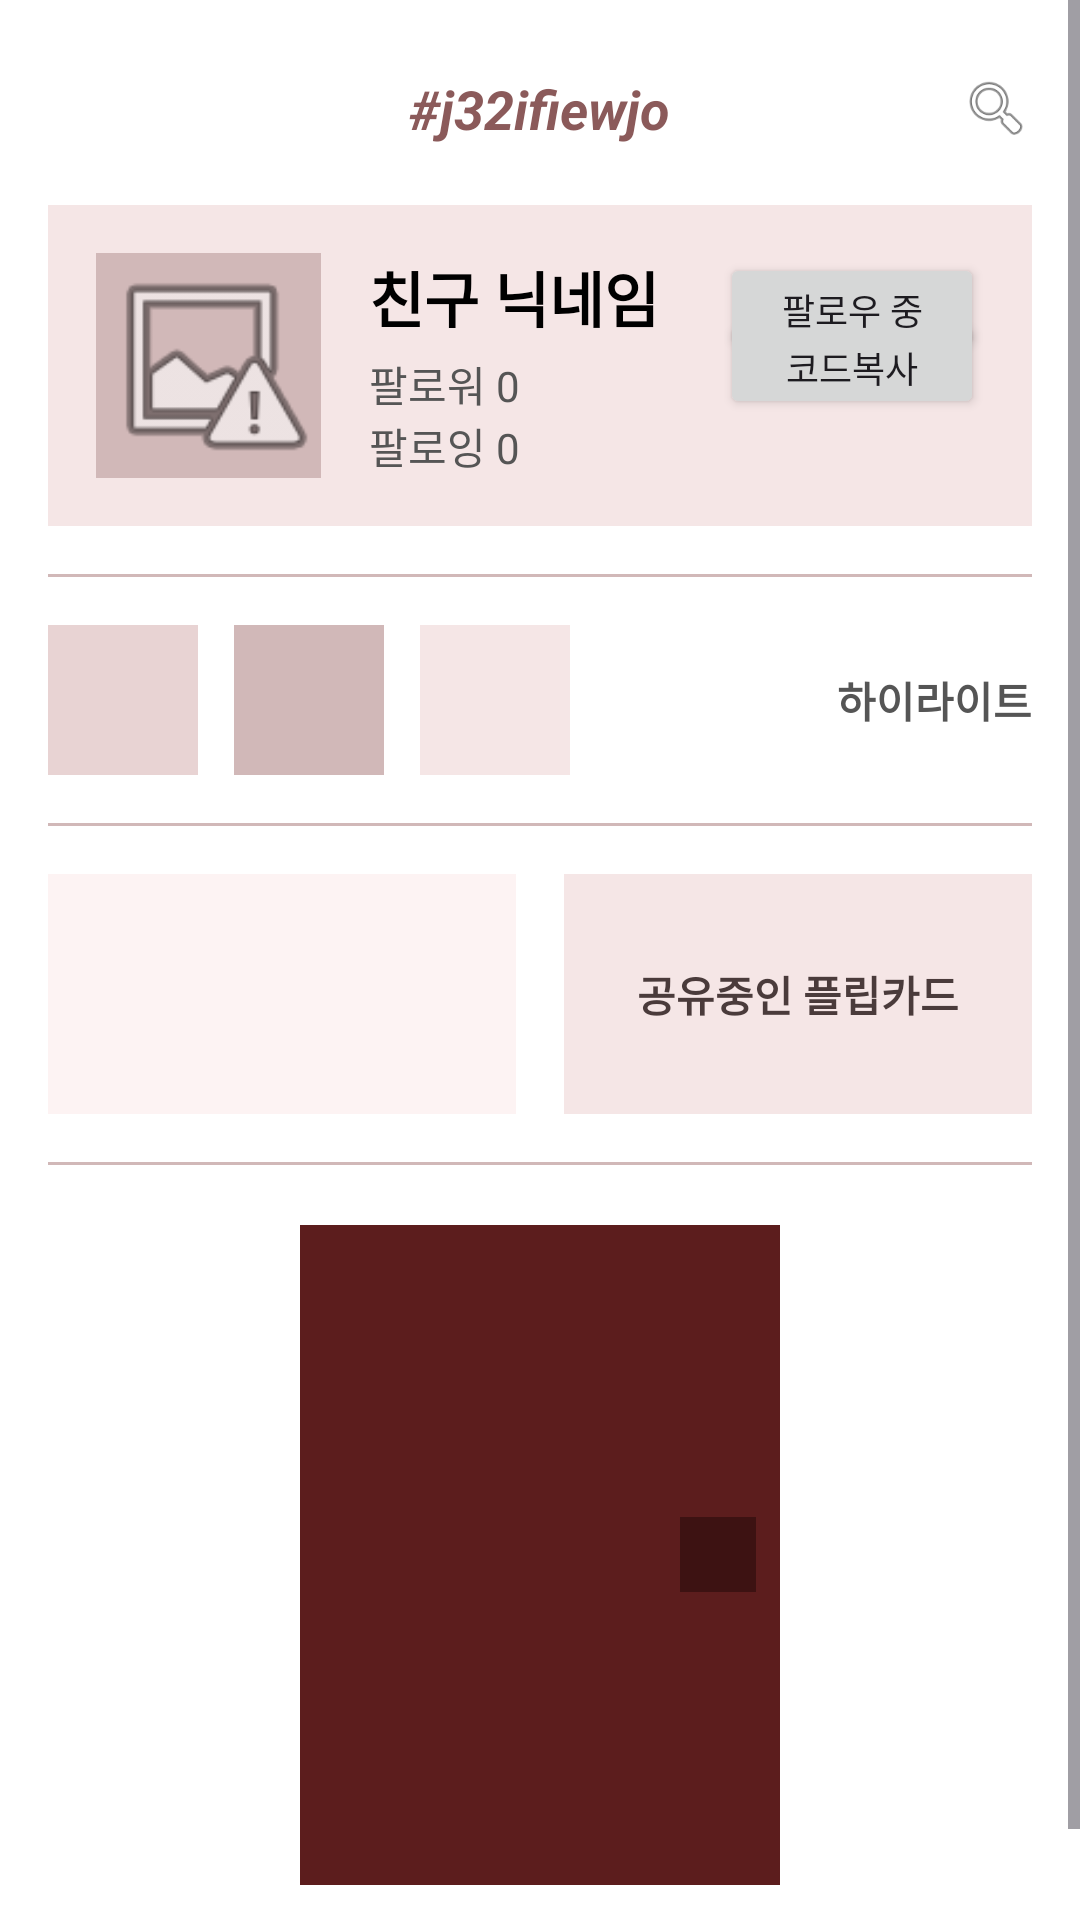

Screen size 1080 x 1920. Icon name, then its box in pixels as (x1, y1, x2, y2):
친구검색: (969, 82, 1023, 135)
